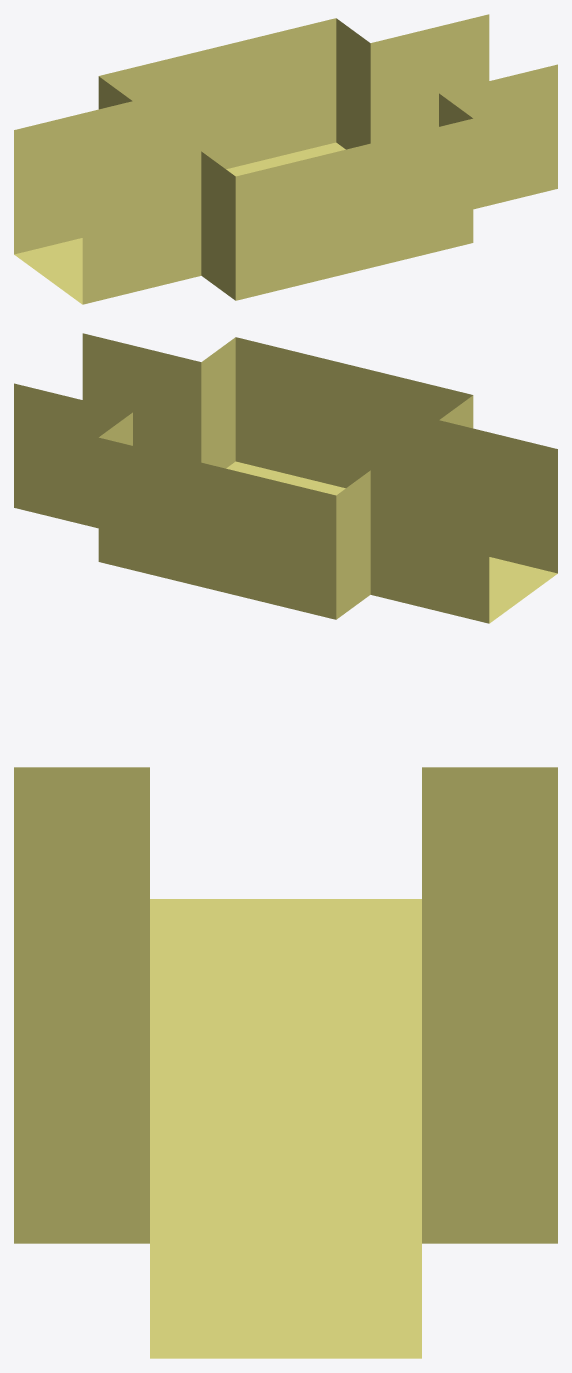
Rendered from hallway_90.glb.
3 renders of one model, top to bottom at view 1: azimuth 30°, elevation 25°; view 2: azimuth 150°, elevation 25°; view 3: azimuth 270°, elevation 25°, orthographic. The views are drawn at different scales.
Visible parts, largest first — view 1: hallway_90; view 2: hallway_90; view 3: hallway_90.
Boxes of the visible parts, bbox=[...] form: hallway_90: bbox=[14, 14, 557, 304]; hallway_90: bbox=[14, 333, 557, 623]; hallway_90: bbox=[14, 767, 557, 1358].
Size of the model in its own units: 4 by 1 by 2.
